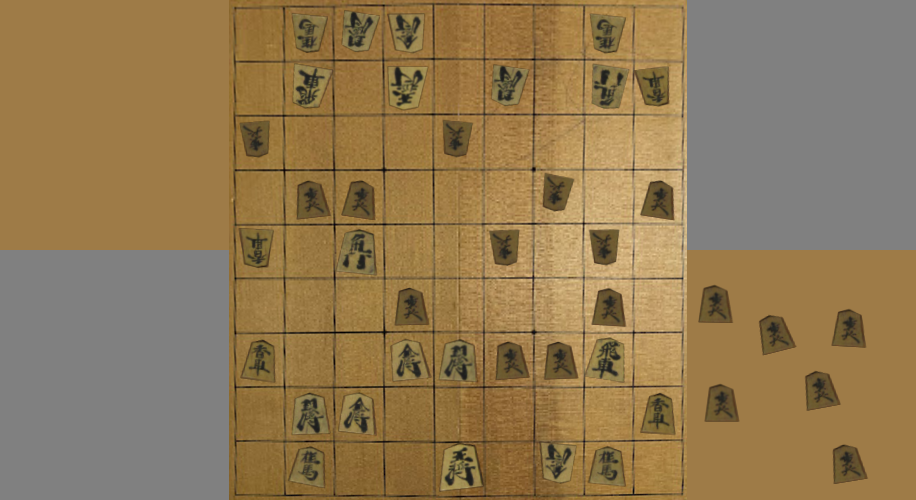A: (433, 439, 488, 495), (334, 224, 380, 277), (637, 175, 686, 224), (637, 393, 685, 439), (536, 339, 581, 387), (289, 391, 334, 439), (488, 340, 532, 389), (436, 337, 478, 388), (237, 337, 282, 384), (585, 333, 630, 380), (387, 340, 432, 386), (337, 392, 379, 438), (591, 283, 631, 331), (291, 178, 333, 223), (342, 179, 380, 225), (287, 444, 328, 486), (589, 446, 627, 488), (391, 286, 426, 331)
B: (235, 221, 287, 278), (383, 58, 430, 114), (489, 58, 532, 115), (628, 65, 675, 117), (338, 4, 384, 55), (588, 11, 633, 63), (584, 63, 628, 112), (438, 114, 484, 160), (288, 62, 330, 111), (291, 11, 327, 65), (386, 13, 430, 54), (537, 171, 576, 215), (237, 119, 277, 161), (540, 444, 577, 487), (486, 226, 523, 266), (588, 225, 621, 267)
C: (752, 312, 803, 356), (827, 302, 869, 355), (826, 443, 874, 486), (697, 278, 734, 328), (804, 366, 842, 414), (700, 383, 742, 426)
